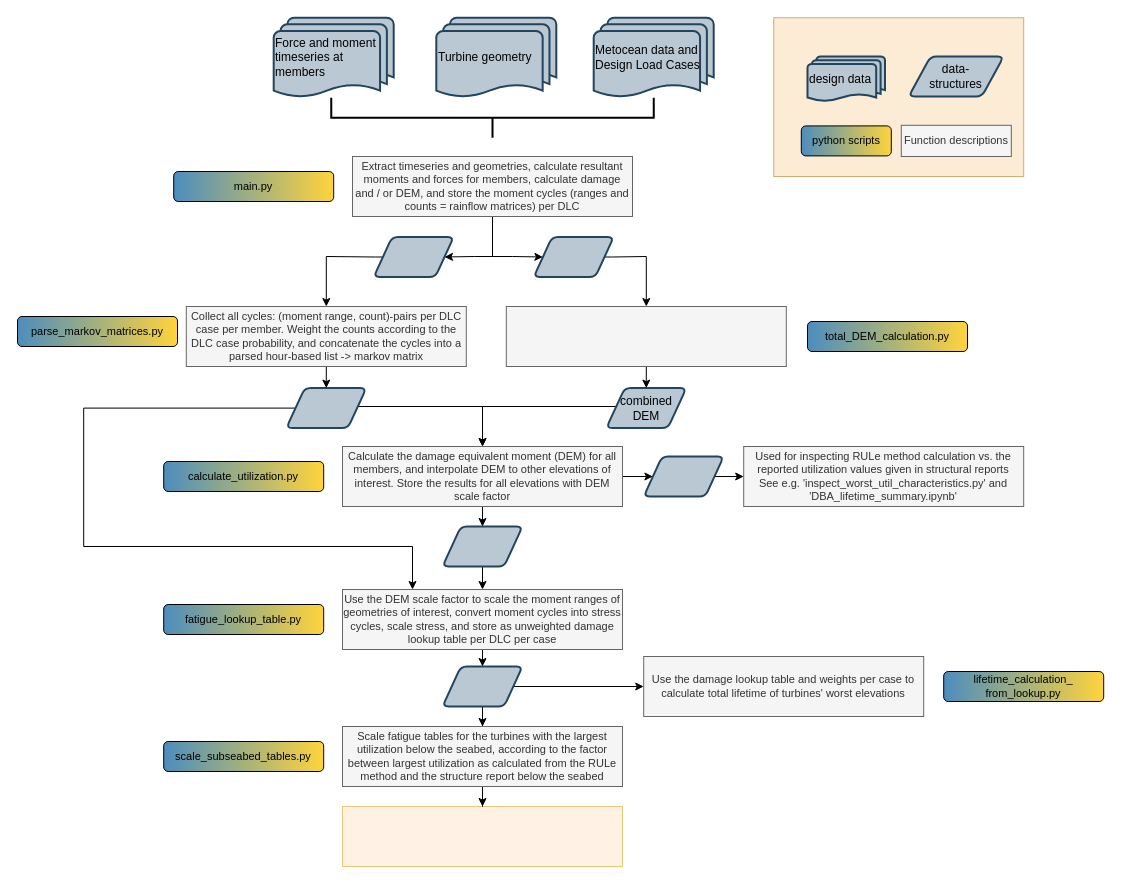
Image size: 1122x885. Some labels were removed from this diagram. The box of each missing label's shape, as (x1, y1, x2, y2) in pixels:
all utilizations: (642, 455, 724, 497)
DEM per DLC/case: (532, 236, 614, 278)
LEGEND: (773, 17, 1024, 176)
lookup table: (441, 665, 523, 707)
rainflow matrices: (372, 236, 454, 278)
Sum all DLC_i DEM-sums into a single matrix for each elevation, each sector: (505, 306, 786, 366)
total markov: (285, 387, 367, 429)
USED IN THE RULE BACKEND: (342, 806, 622, 866)
worst utilization: (441, 525, 523, 567)
